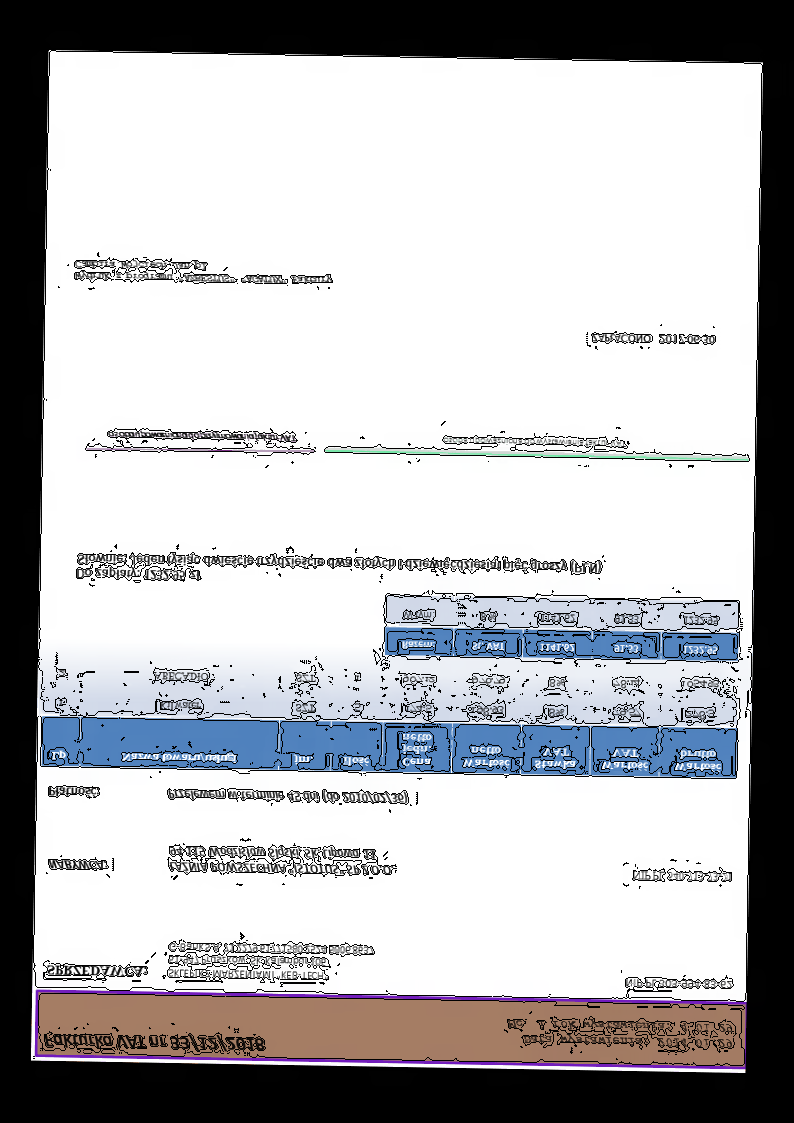Table: (39, 655, 739, 781), (382, 593, 740, 663)
TextBox: (74, 548, 604, 591), (166, 938, 376, 986), (503, 1015, 735, 1052), (166, 842, 397, 879), (72, 257, 337, 289), (40, 1029, 267, 1057), (165, 787, 409, 806), (105, 427, 297, 446), (439, 434, 630, 451), (589, 329, 718, 348), (623, 975, 734, 994), (43, 961, 148, 981), (628, 868, 735, 886), (45, 856, 108, 873), (44, 784, 101, 801)
